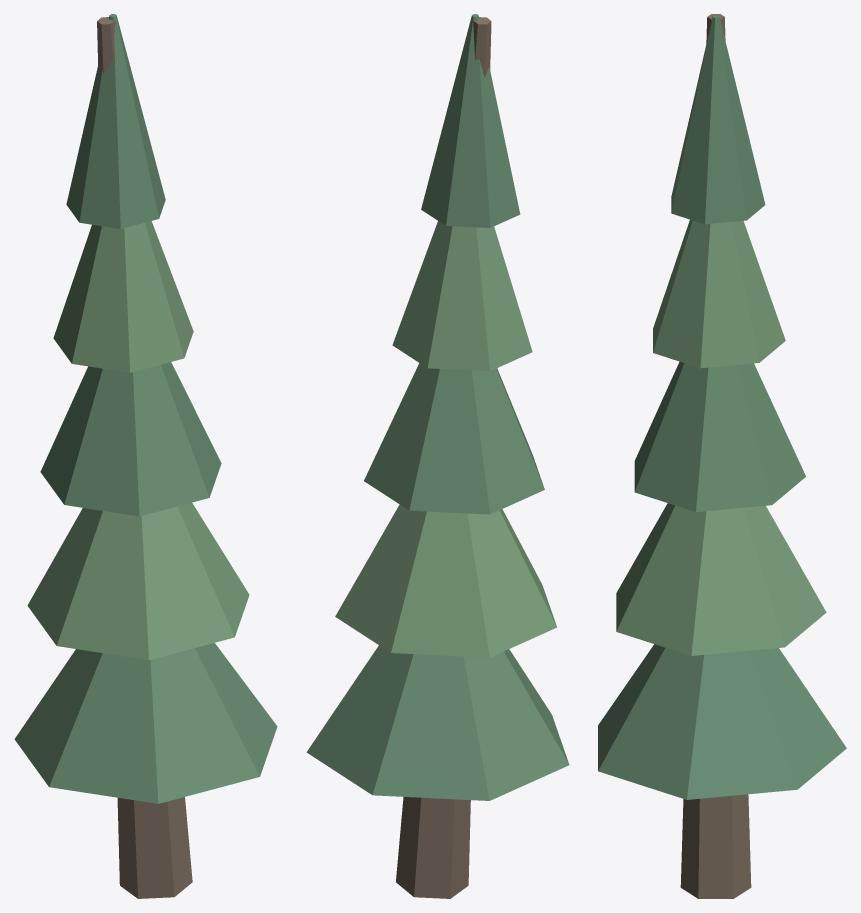
Rendered from pine_v16.glb.
3 views of the same model, side by side, from view 1: azimuth 30°, elevation 25°; view 2: azimuth 150°, elevation 25°; view 3: azimuth 270°, elevation 25° (orthographic). The views are drawn at different scales.
Parts seen in each view (by area): view 1: lod0; view 2: lod0; view 3: lod0.
Boxes of the visible parts, x1=… form: lod0: x1=14, y1=14, x2=277, y2=898; lod0: x1=306, y1=14, x2=569, y2=898; lod0: x1=598, y1=14, x2=846, y2=898.
Size of what is drawn, in the model's own units: 1.45 by 5.33 by 1.41.
